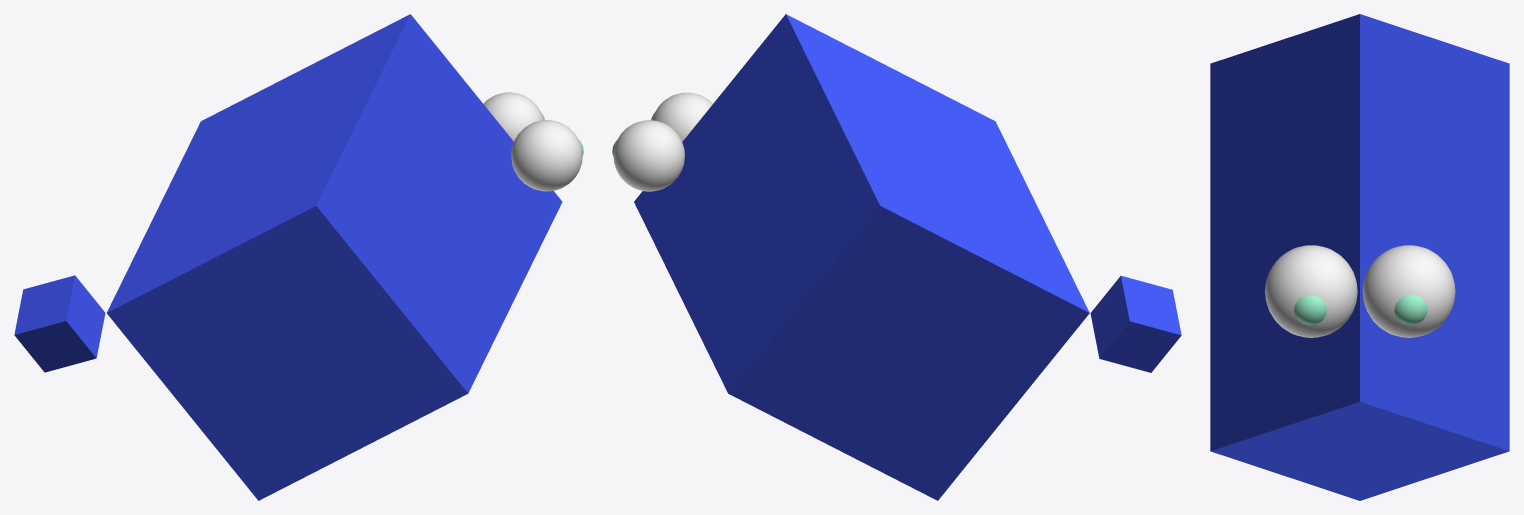
The model's file is cubeFish.glb.
The picture shows the model from 3 angles, left to right: view 1: azimuth 30°, elevation 25°; view 2: azimuth 150°, elevation 25°; view 3: azimuth 270°, elevation 25°; orthographic projection. The views are drawn at different scales.
Parts seen in each view (by area): view 1: Main_Body, Tail, RightEyeball, LeftEyeball; view 2: Main_Body, Tail, LeftEyeball, RightEyeball; view 3: Main_Body, RightEyeball, LeftEyeball, LeftIris, RightIris.
Part boxes in pixels (x1,y1,x2,y2): Main_Body: [107, 14, 562, 500]; Tail: [14, 275, 105, 372]; RightEyeball: [511, 120, 582, 191]; LeftEyeball: [483, 92, 543, 141]; Main_Body: [634, 14, 1089, 500]; Tail: [1090, 275, 1181, 372]; LeftEyeball: [613, 120, 684, 191]; RightEyeball: [652, 92, 712, 141]; Main_Body: [1210, 14, 1509, 500]; RightEyeball: [1265, 245, 1357, 337]; LeftEyeball: [1362, 245, 1455, 337]; LeftIris: [1394, 295, 1427, 324]; RightIris: [1294, 295, 1326, 324].
Bounding box in the file's own units: 4.16 × 3.27 × 1.52.
